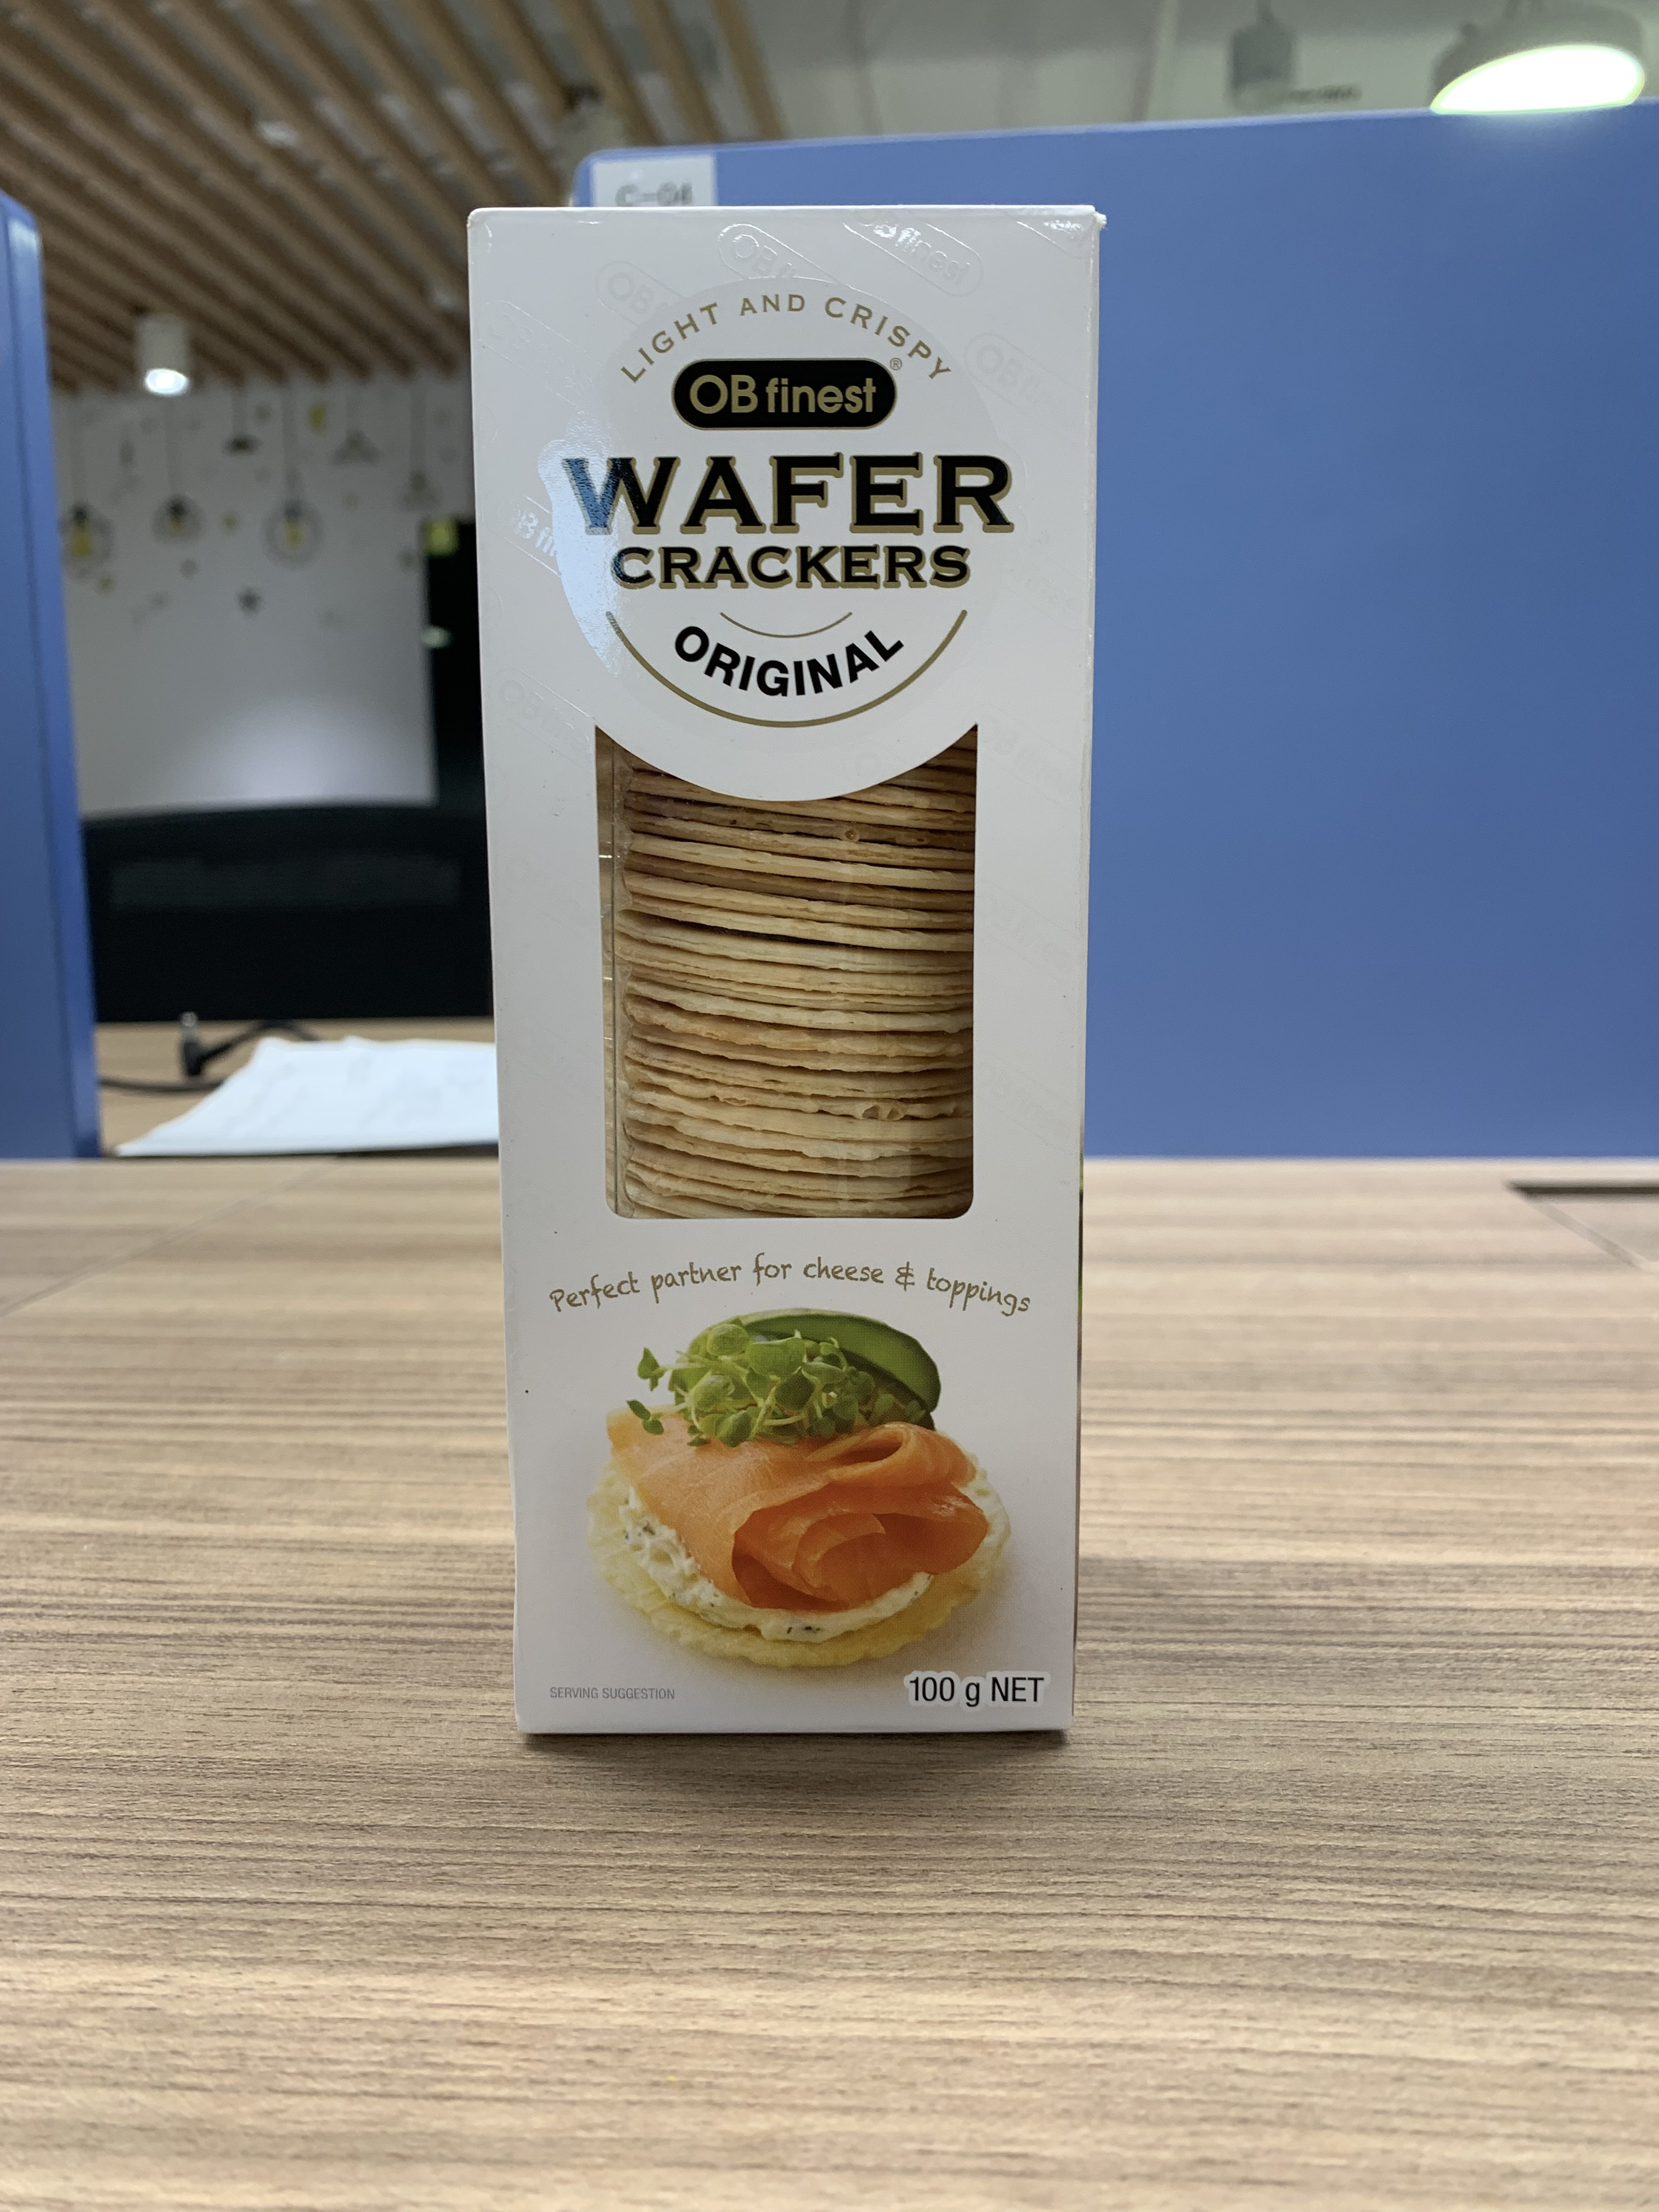crackers: (458, 181, 1121, 1764)
